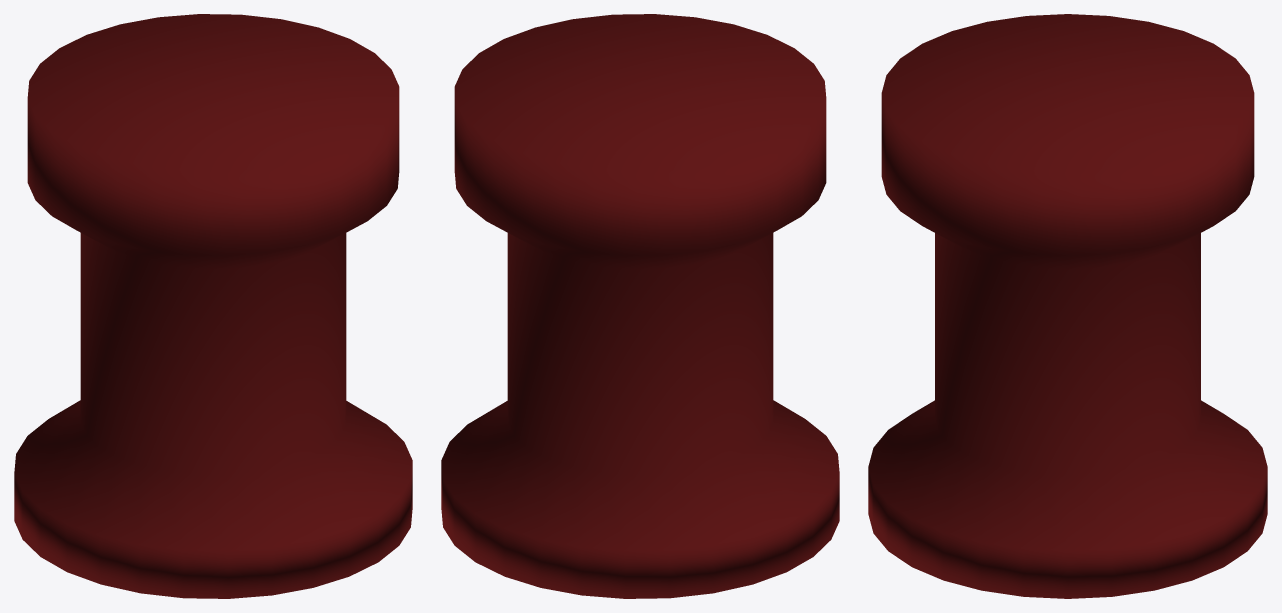
Rendered from b-rook.glb.
3 views of the same model, side by side, from view 1: azimuth 30°, elevation 25°; view 2: azimuth 150°, elevation 25°; view 3: azimuth 270°, elevation 25° (orthographic).
Visible parts, largest first — view 1: b-rook; view 2: b-rook; view 3: b-rook.
Part boxes in pixels (bbox=[...]): b-rook: bbox=[14, 14, 412, 598]; b-rook: bbox=[441, 14, 839, 598]; b-rook: bbox=[868, 14, 1267, 598].
Size of the model in its own units: 0.6 by 0.7 by 0.6.
